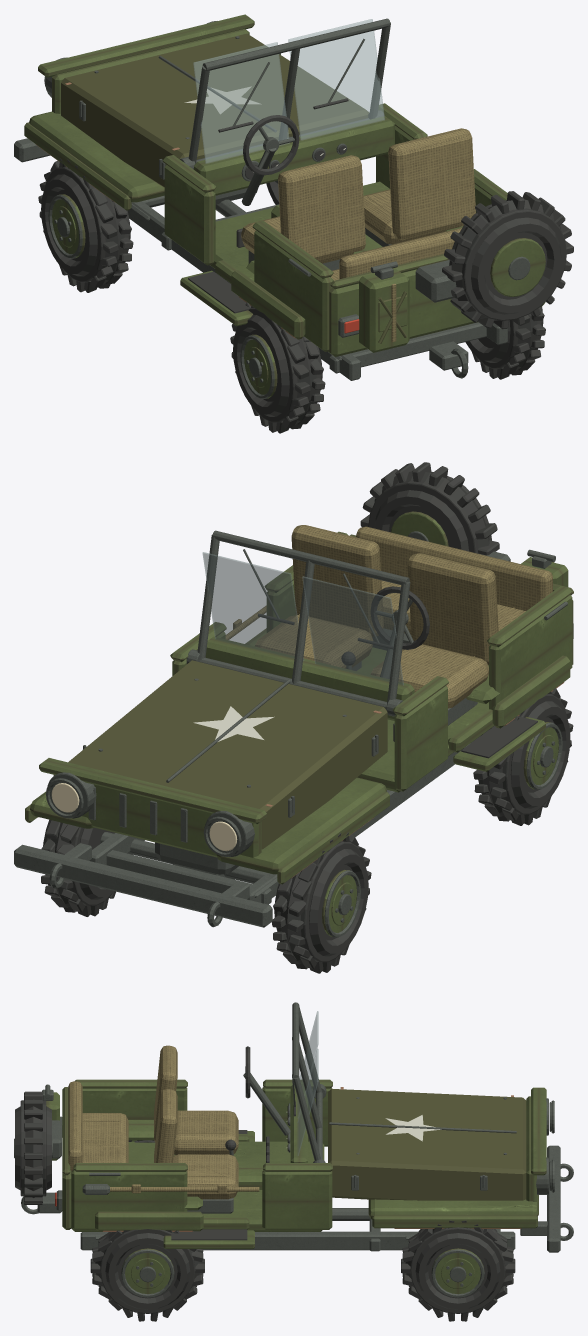
The model's file is legerjeep.glb.
The picture shows the model from 3 angles, top to bottom: view 1: azimuth 30°, elevation 25°; view 2: azimuth 150°, elevation 25°; view 3: azimuth 270°, elevation 25°; orthographic projection. The views are drawn at different scales.
Parts seen in each view (by area): view 1: Bloedjungle | Army Jeep; view 2: Bloedjungle | Army Jeep; view 3: Bloedjungle | Army Jeep.
Part boxes in pixels (x1,y1,x2,y2): Bloedjungle | Army Jeep: (14, 14, 573, 433); Bloedjungle | Army Jeep: (14, 462, 573, 973); Bloedjungle | Army Jeep: (14, 1002, 573, 1321).
Size of the model in its own units: 1.86 by 1.82 by 3.92.
Materials: 13 (6 with a texture image).
